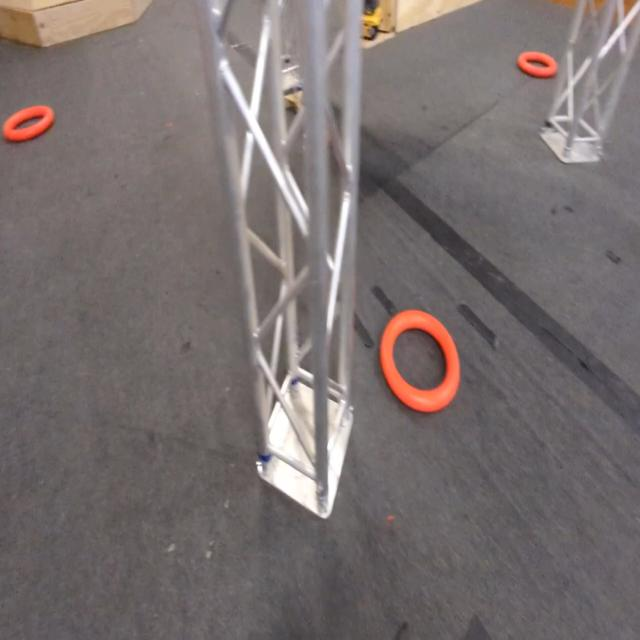note: (382, 310, 462, 411), (3, 102, 57, 142), (518, 50, 558, 80)
